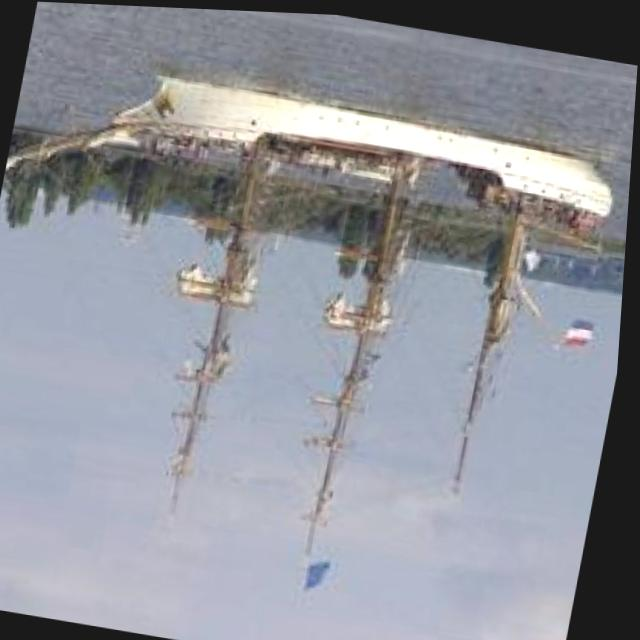ship2: (7, 71, 614, 513)
